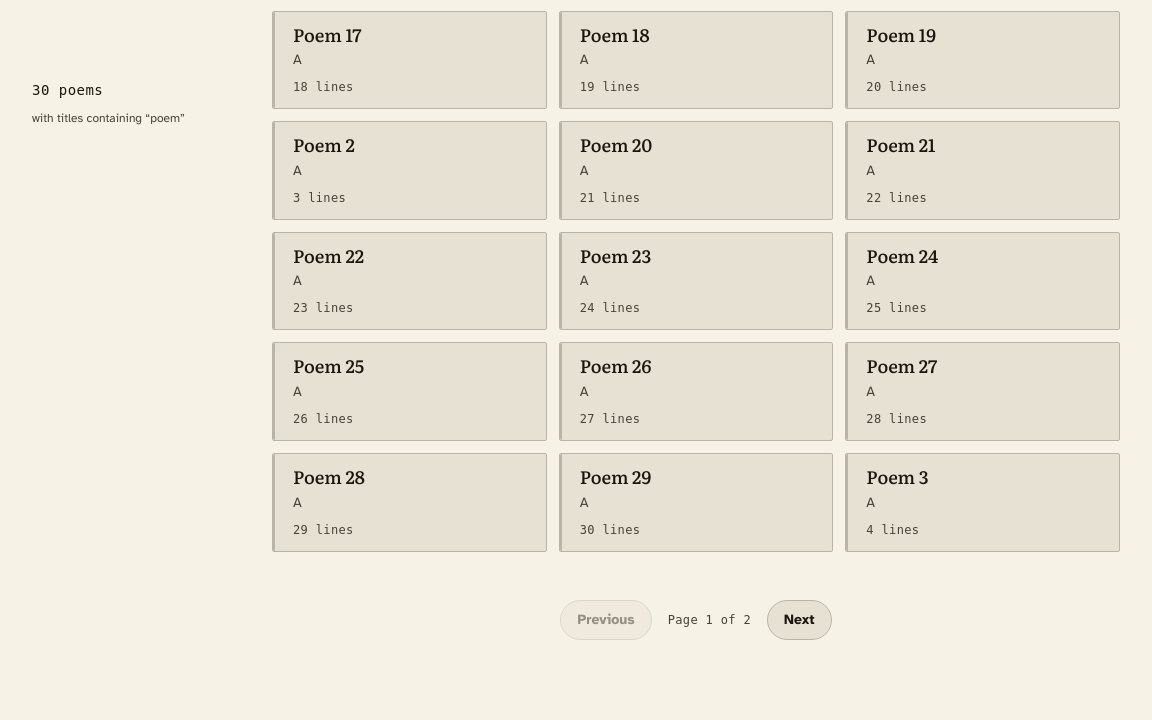
Test: SearchResults (SPEC §10, §11) › paginates large result sets and the page is reflected in the URL
(page scrolled)
Check: the text "Page 1 of 2" is shown, box [668,610,751,628]
Click the button "Next" at (799, 620), box [767,600,832,640]
(page scrolled)
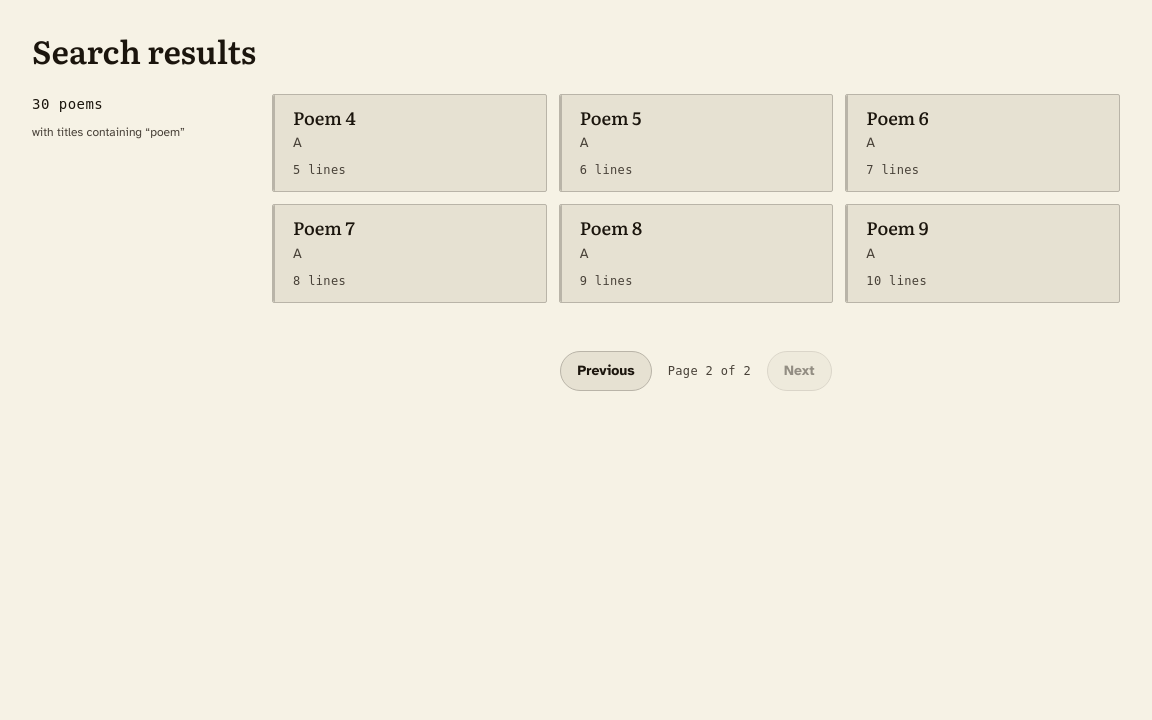
Check: the text "Page 2 of 2" is shown, box [668,362,751,380]
